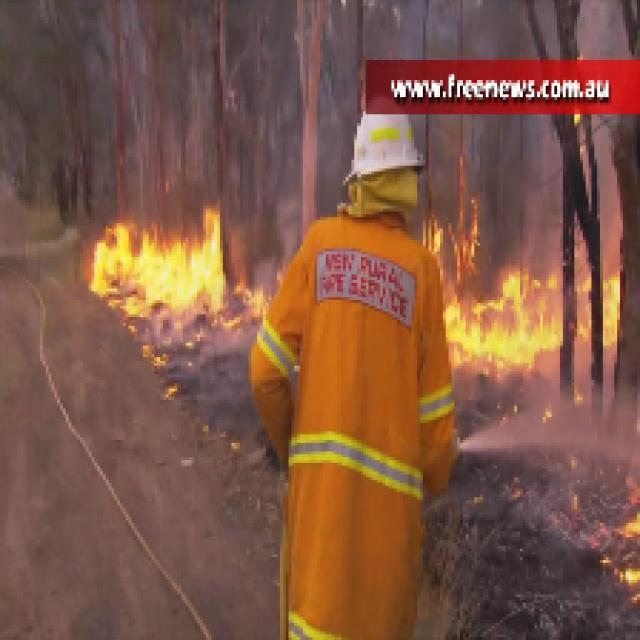Fire: (439, 290, 616, 350), (90, 222, 222, 302)
